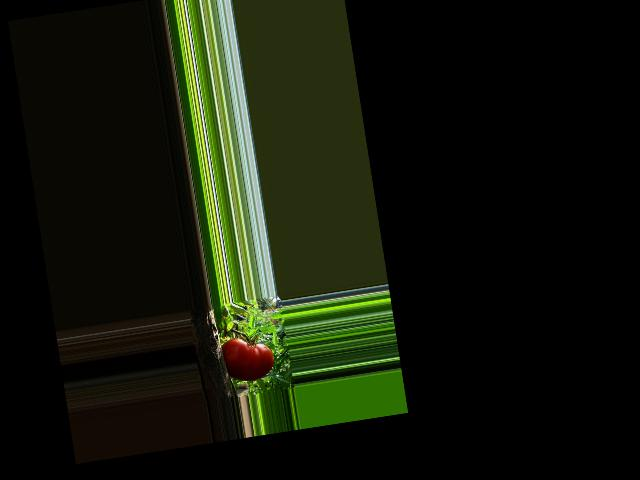tomato: (220, 332, 276, 383)
